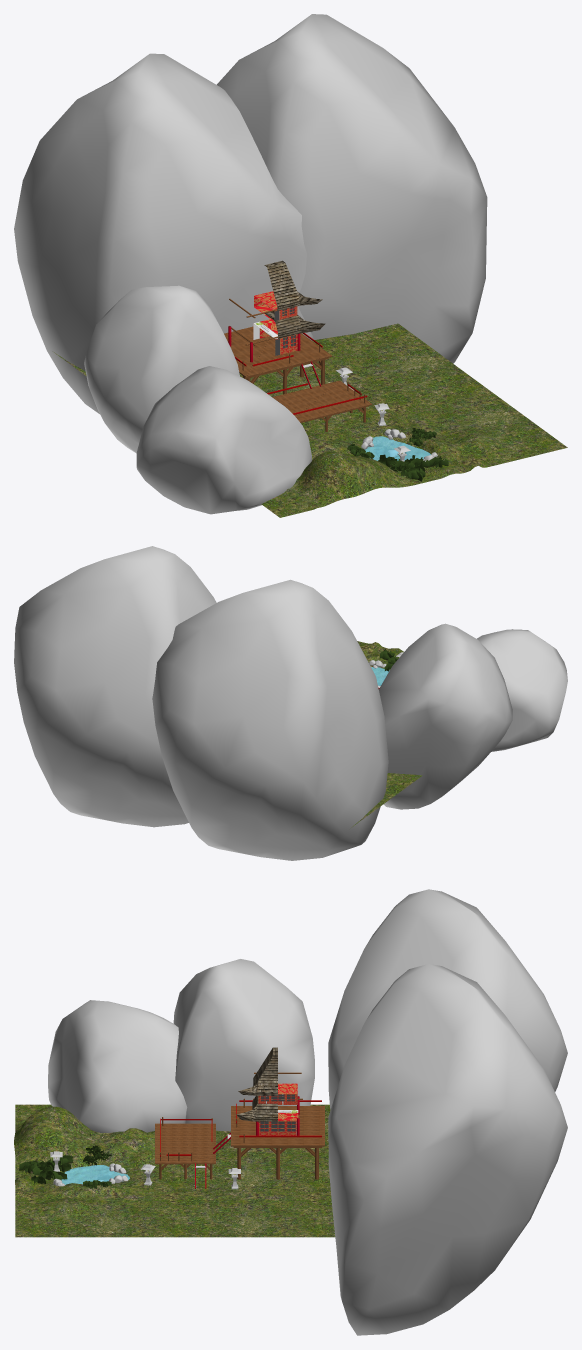
File: the emperor village.dae
3 views of the same model, one above another, from view 1: azimuth 30°, elevation 25°; view 2: azimuth 150°, elevation 25°; view 3: azimuth 270°, elevation 25° (orthographic). The views are drawn at different scales.
Parts seen in each view (by area): view 1: Stone_04_014, Stone_04_016, Plane, Stone_04_012, Stone_04_013, Cube_001, Cube_040, Cube_004, Plane_001, Cube, Cube_002, Cube_003; view 2: Stone_04_014, Stone_04_016, Stone_04_013, Stone_04_012, Plane; view 3: Stone_04_016, Plane, Stone_04_014, Stone_04_013, Stone_04_012, Cube_040, Cube_001, Cube_004, Plane_001, Cube, Cube_002, Cube_003.
Boxes of the visible parts, x1,y1,x2,y2 form: Stone_04_014: (14,53,313,413); Stone_04_016: (216,14,487,363); Plane: (54,323,567,517); Stone_04_012: (136,366,311,514); Stone_04_013: (84,285,239,453); Cube_001: (224,326,332,378); Cube_040: (272,380,372,422); Cube_004: (264,260,322,311); Plane_001: (365,436,430,460); Cube: (253,319,297,355); Cube_002: (265,311,325,339); Cube_003: (254,291,297,322); Stone_04_014: (152,579,388,860); Stone_04_016: (14,546,216,827); Stone_04_013: (378,623,512,809); Stone_04_012: (477,629,567,751); Plane: (351,641,422,827); Stone_04_016: (328,964,567,1335); Plane: (14,1104,335,1237); Stone_04_014: (328,889,567,1109); Stone_04_013: (173,959,314,1130); Stone_04_012: (48,1000,187,1133); Cube_040: (155,1123,215,1164); Cube_001: (231,1106,324,1147); Cube_004: (238,1047,277,1095); Plane_001: (61,1165,129,1184); Cube: (259,1110,298,1135); Cube_002: (236,1095,277,1121); Cube_003: (258,1083,297,1104).
Bounding box in the file's own units: 84.02 × 90.42 × 60.13.
